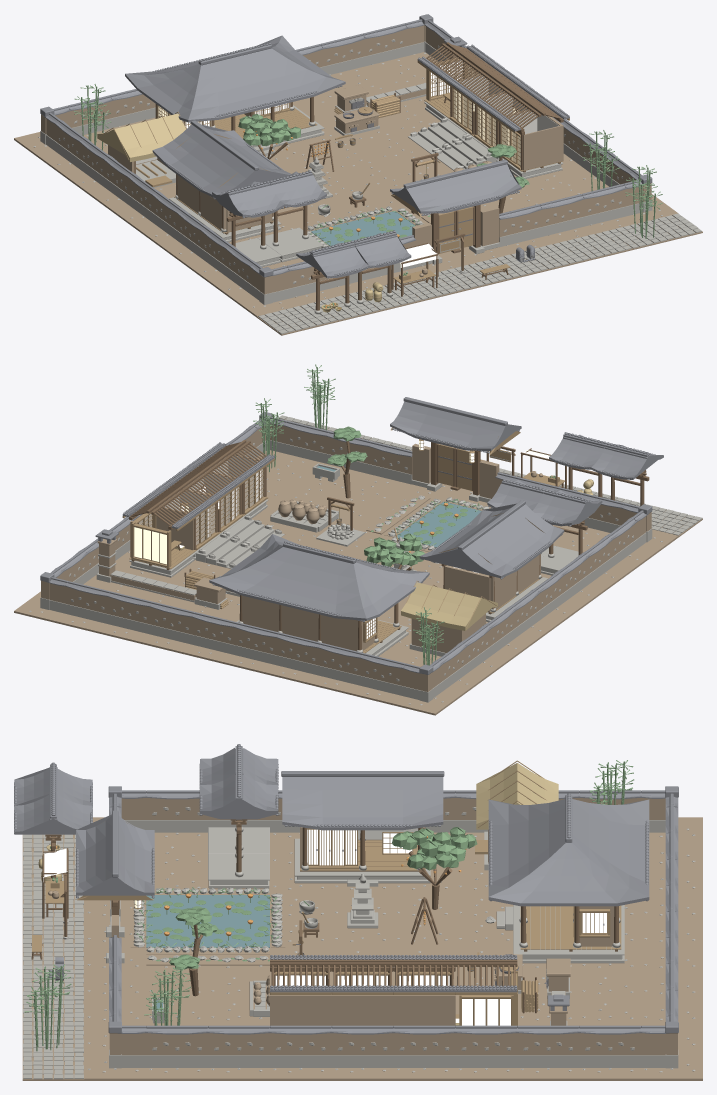
File: korean-hanok-village-and-street-walled-h-d28cafda-starter-scene__38093.glb
3 views of the same model, one above another, from view 1: azimuth 30°, elevation 25°; view 2: azimuth 150°, elevation 25°; view 3: azimuth 270°, elevation 25° (orthographic). The views are drawn at different scales.
Parts seen in each view (by area): view 1: 234-hanok-main-house/7, 237-hanok-side-wing/7, 140-village-gate-house/3, 238-thatched-outbuilding/5, 237-hanok-side-wing/3, 163-hanok-room-module/0, 200-hipped-tile-roof-module/0, 244-persimmon-tree/1, 206-gabled-tile-roof-module/0, 201-hipped-tile-roof-module/0, 181-stepped-lane-module/0, 180-stepped-lane-module/0 (+68 smaller); view 2: 234-hanok-main-house/7, 237-hanok-side-wing/7, 140-village-gate-house/3, 234-hanok-main-house/3, 238-thatched-outbuilding/5, 237-hanok-side-wing/3, 200-hipped-tile-roof-module/0, 244-persimmon-tree/1, 140-village-gate-house/2, 206-gabled-tile-roof-module/0, 180-stepped-lane-module/0, 238-thatched-outbuilding/1 (+45 smaller); view 3: 234-hanok-main-house/7, 237-hanok-side-wing/7, 140-village-gate-house/3, 234-hanok-main-house/0, 201-hipped-tile-roof-module/0, 238-thatched-outbuilding/5, 244-persimmon-tree/1, 234-hanok-main-house/2, 207-gabled-tile-roof-module/0, 237-hanok-side-wing/2, 197-stone-plinth-base-module/0, 161-hanok-room-module/0 (+120 smaller).
Part boxes in pixels (left/top/right/bottom): 234-hanok-main-house/7: left=125, top=35, right=345, bottom=123; 237-hanok-side-wing/7: left=152, top=120, right=290, bottom=199; 140-village-gate-house/3: left=390, top=159, right=521, bottom=215; 238-thatched-outbuilding/5: left=97, top=113, right=185, bottom=161; 237-hanok-side-wing/3: left=176, top=134, right=272, bottom=232; 163-hanok-room-module/0: left=508, top=110, right=563, bottom=170; 200-hipped-tile-roof-module/0: left=212, top=182, right=284, bottom=217; 244-persimmon-tree/1: left=238, top=114, right=300, bottom=146; 206-gabled-tile-roof-module/0: left=296, top=243, right=368, bottom=278; 201-hipped-tile-roof-module/0: left=254, top=171, right=326, bottom=207; 181-stepped-lane-module/0: left=434, top=135, right=496, bottom=170; 180-stepped-lane-module/0: left=408, top=117, right=469, bottom=154; 234-hanok-main-house/7: left=209, top=534, right=429, bottom=621; 237-hanok-side-wing/7: left=419, top=500, right=564, bottom=579; 140-village-gate-house/3: left=390, top=397, right=521, bottom=453; 234-hanok-main-house/3: left=242, top=595, right=374, bottom=651; 238-thatched-outbuilding/5: left=401, top=582, right=497, bottom=630; 237-hanok-side-wing/3: left=439, top=513, right=544, bottom=611; 200-hipped-tile-roof-module/0: left=532, top=490, right=602, bottom=526; 244-persimmon-tree/1: left=364, top=533, right=424, bottom=566; 140-village-gate-house/2: left=412, top=443, right=499, bottom=498; 206-gabled-tile-roof-module/0: left=591, top=445, right=663, bottom=479; 180-stepped-lane-module/0: left=196, top=533, right=257, bottom=568; 238-thatched-outbuilding/1: left=411, top=613, right=485, bottom=652; 234-hanok-main-house/7: left=488, top=793, right=649, bottom=906; 237-hanok-side-wing/7: left=281, top=771, right=444, bottom=830; 140-village-gate-house/3: left=76, top=810, right=154, bottom=898; 234-hanok-main-house/0: left=485, top=905, right=624, bottom=963; 201-hipped-tile-roof-module/0: left=199, top=774, right=278, bottom=819; 238-thatched-outbuilding/5: left=476, top=763, right=558, bottom=829; 244-persimmon-tree/1: left=392, top=827, right=477, bottom=870; 234-hanok-main-house/2: left=520, top=905, right=621, bottom=949; 207-gabled-tile-roof-module/0: left=14, top=794, right=92, bottom=834; 237-hanok-side-wing/2: left=300, top=828, right=425, bottom=870; 197-stone-plinth-base-module/0: left=208, top=853, right=269, bottom=888; 161-hanok-room-module/0: left=393, top=971, right=455, bottom=1025.
Size of the model in its own units: 30 by 6.14 by 33.41.
